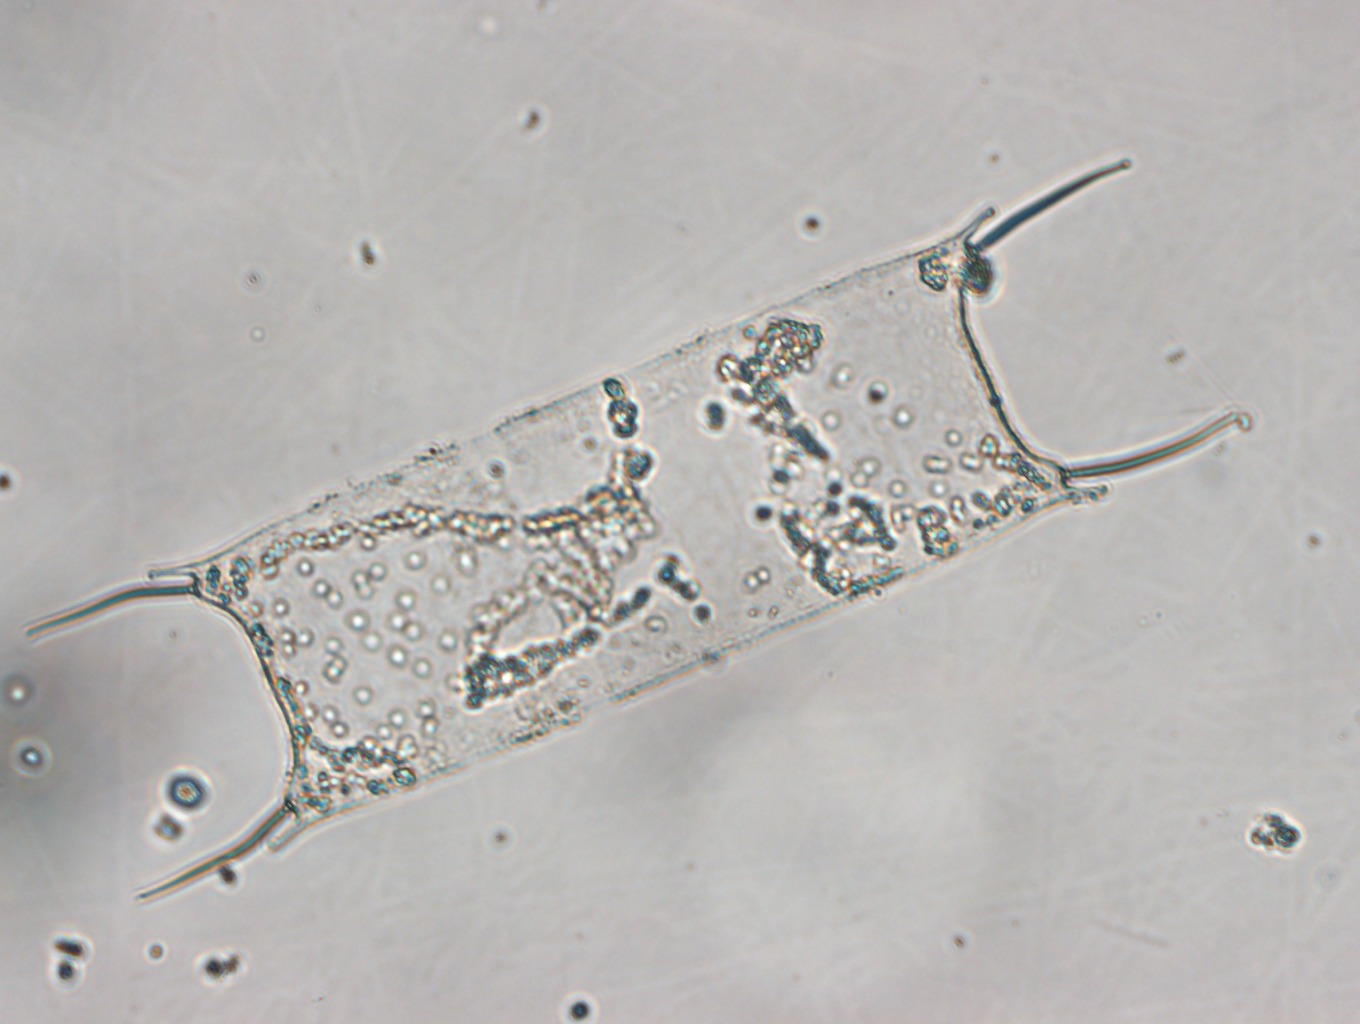biddulphia: (22, 157, 1236, 902)
